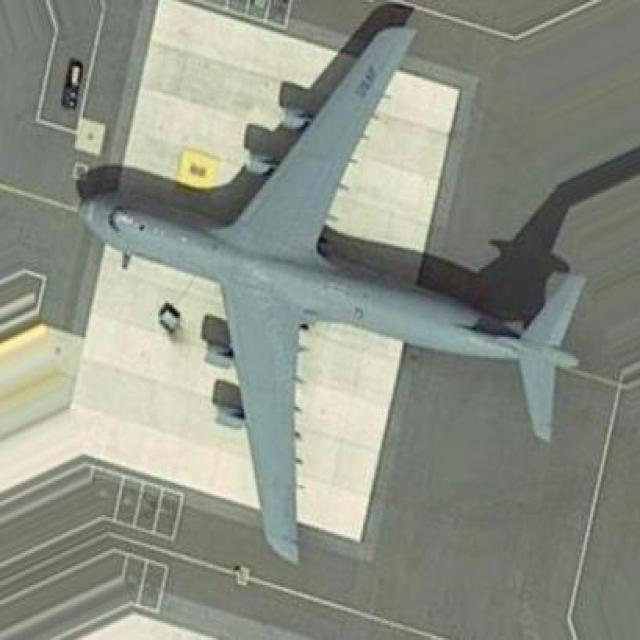C-5_TopDown: (68, 1, 591, 568)
